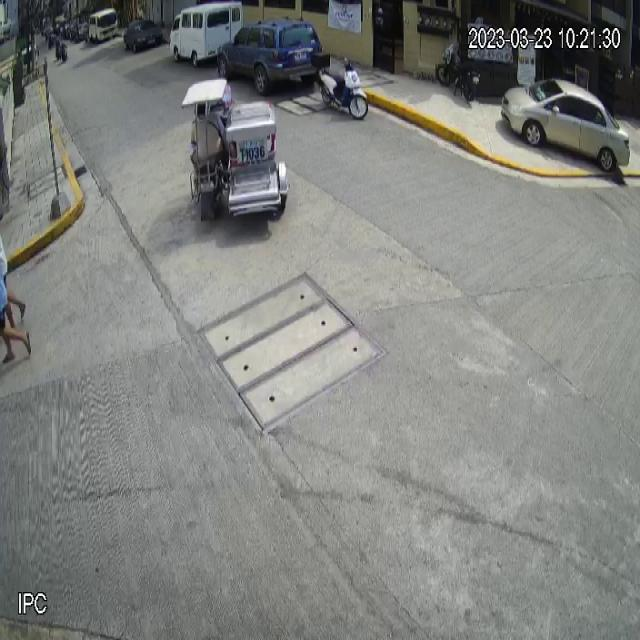Car: (501, 78, 631, 173), (216, 17, 321, 95)
Motorcycle: (312, 52, 369, 121)
Tricycle: (181, 77, 289, 224)
Van: (169, 1, 243, 66)
